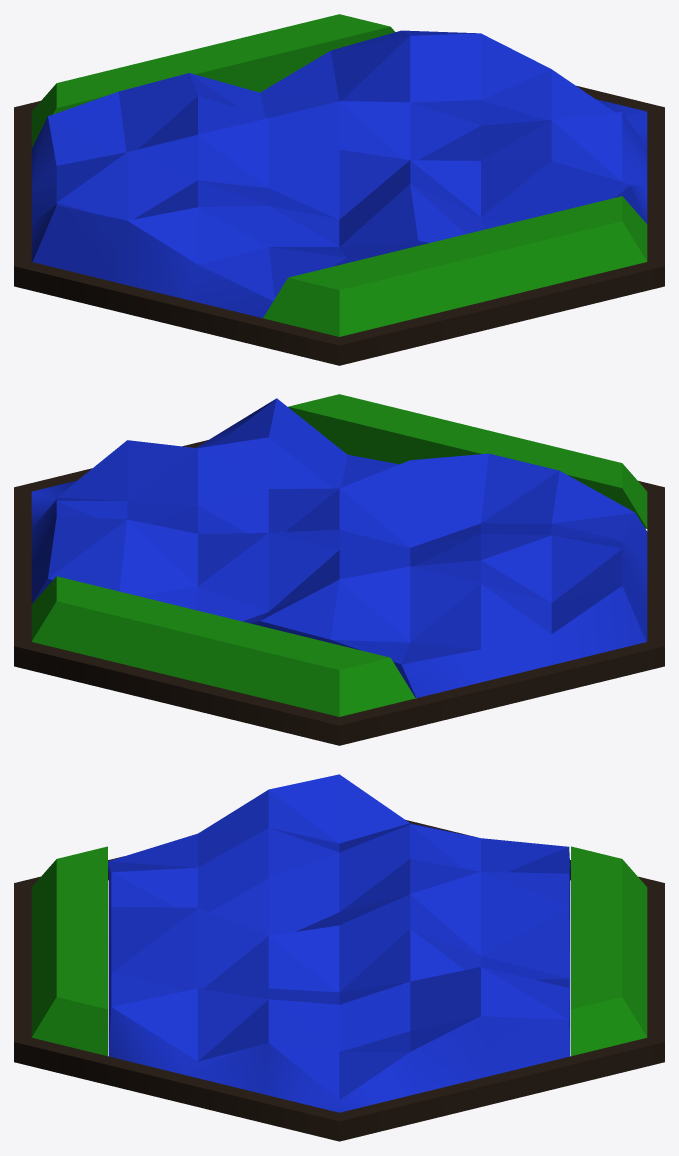
Rendered from riverTile.fbx.
The picture shows the model from 3 angles, top to bottom: view 1: azimuth 30°, elevation 25°; view 2: azimuth 150°, elevation 25°; view 3: azimuth 270°, elevation 25°; orthographic projection.
Visible parts, largest first — view 1: Object003; view 2: Object003; view 3: Object003.
Boxes of the visible parts, left/top/right/bottom form: Object003: left=14, top=14, right=664, bottom=365; Object003: left=14, top=394, right=664, bottom=745; Object003: left=14, top=774, right=664, bottom=1141.
Bounding box in the file's own units: 47.1 × 5.87 × 40.79.
